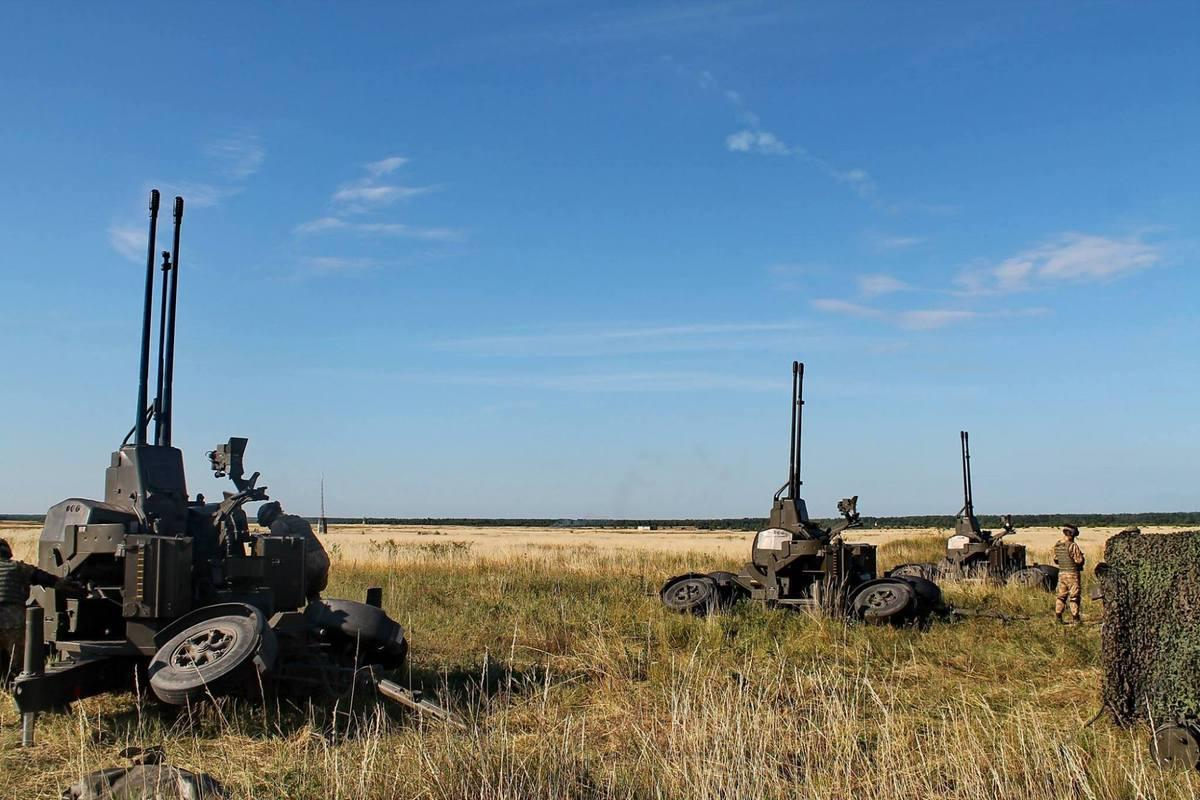MIL_SPG: (14, 192, 431, 715), (661, 363, 945, 623), (898, 431, 1057, 587)
